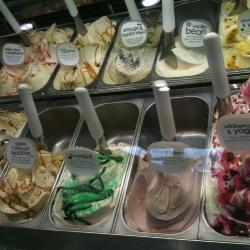icecream: (25, 27, 158, 85), (126, 142, 203, 230), (60, 145, 130, 227), (3, 151, 55, 219)
